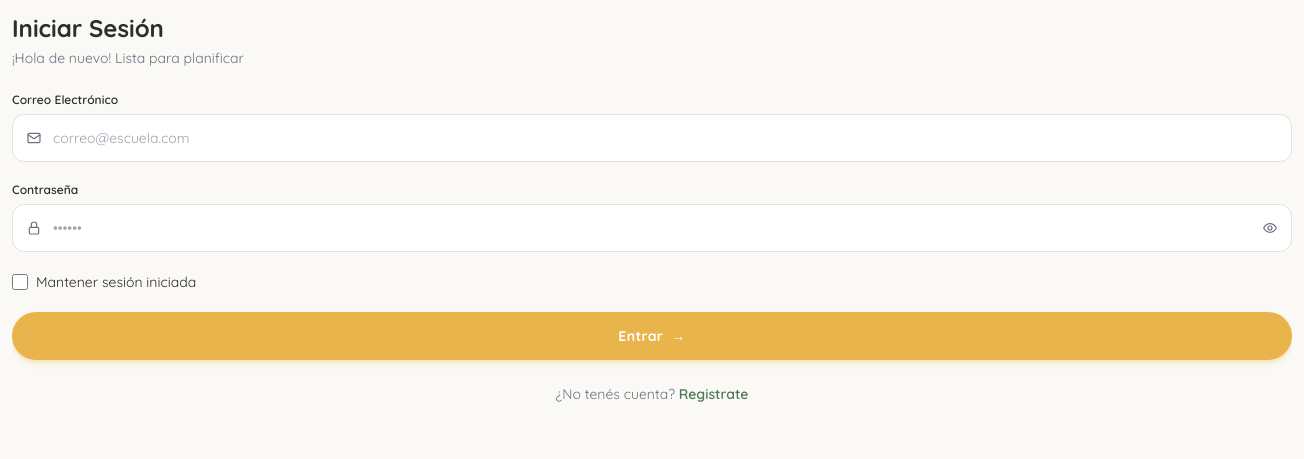
Scenario: LoginPage › shows validation errors when submitting empty form
Click the button "Entrar →" at (652,336), box [12, 312, 1292, 360]
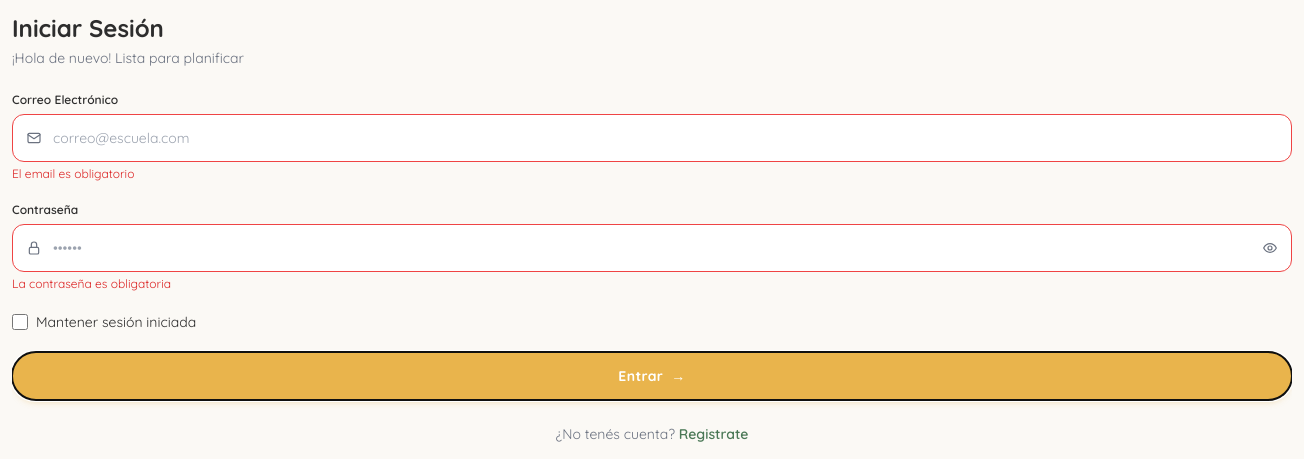
Expected: the text "El email es obligatorio" is shown, [12, 166, 134, 181]
Expected: the text "La contraseña es obligatoria" is shown, [12, 276, 171, 291]
